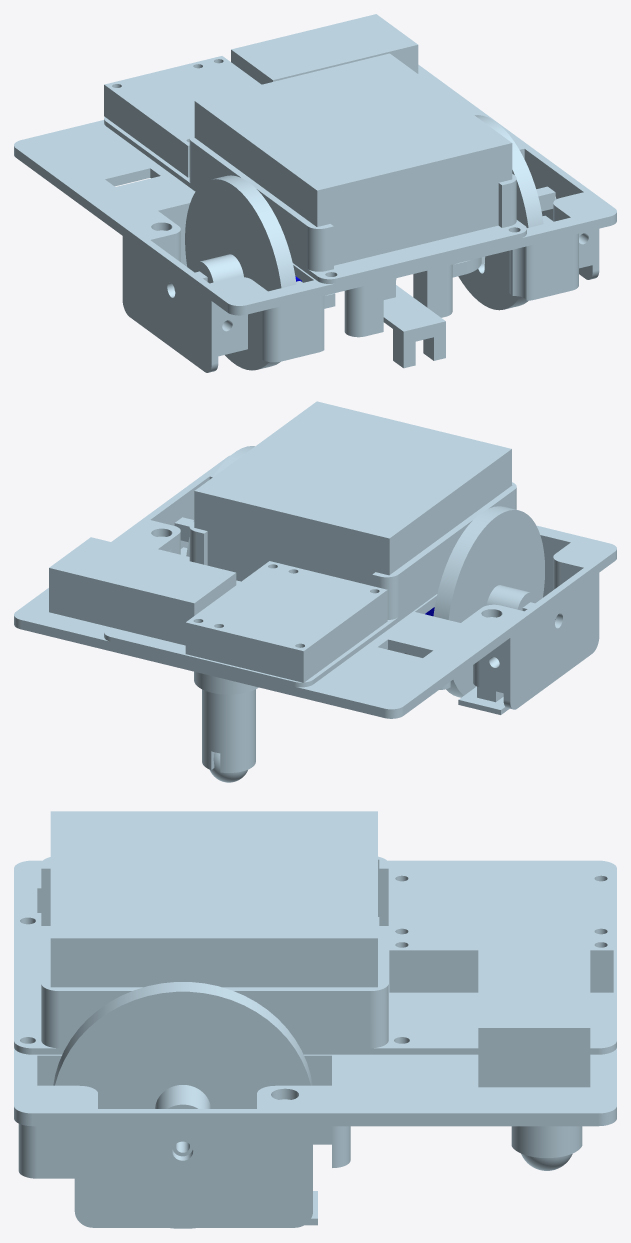
File: minibot.glb
3 renders of one model, top to bottom at view 1: azimuth 30°, elevation 25°; view 2: azimuth 150°, elevation 25°; view 3: azimuth 270°, elevation 25°, orthographic. The views are drawn at different scales.
Parts seen in each view (by area): view 1: chasis, battery box, wheel (×2), battery mount, pcb, stick s3, speed sensor, servo cover; view 2: battery box, chasis, pcb, stick s3, wheel (×2), battery mount, ball mount, speed sensor; view 3: chasis, battery box, battery mount, wheel, pcb, stick s3, ball mount.
Part boxes in pixels (x1,y1,x2,y2): chasis: (14,64,616,372); battery box: (194,53,512,265); wheel (×2): (174,115,555,370); battery mount: (104,117,526,283); pcb: (104,56,261,177); stick s3: (231,14,418,84); speed sensor: (383,285,445,368); servo cover: (296,257,481,308); battery box: (194,401,511,585); chasis: (14,455,616,718); pcb: (185,561,387,682); stick s3: (49,537,236,645); wheel (×2): (174,446,555,697); battery mount: (104,482,516,687); ball mount: (202,689,255,772); speed sensor: (458,686,509,714); chasis: (14,860,616,1227); battery box: (50,811,377,987); battery mount: (14,856,616,1054); wheel: (53,982,312,1228); pcb: (389,873,613,992); stick s3: (478,933,590,1087); ball mount: (511,1126,582,1157).
Size of the model in its own units: 12.8 by 6.93 by 12.9.
